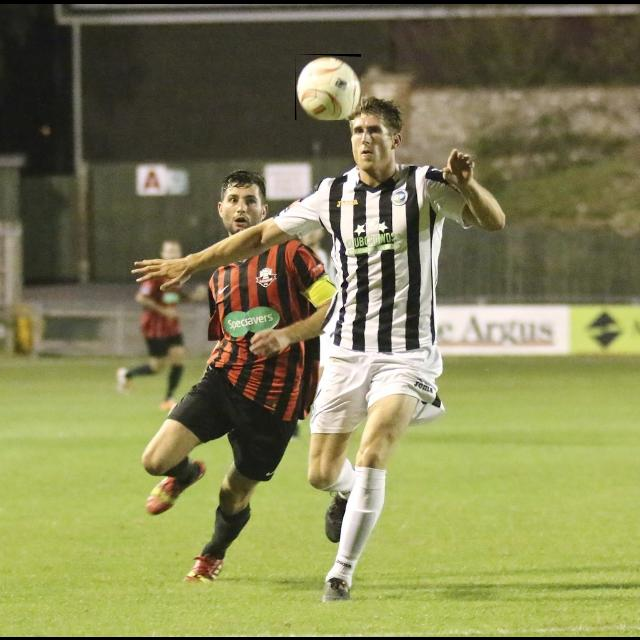Football: (295, 54, 361, 120)
